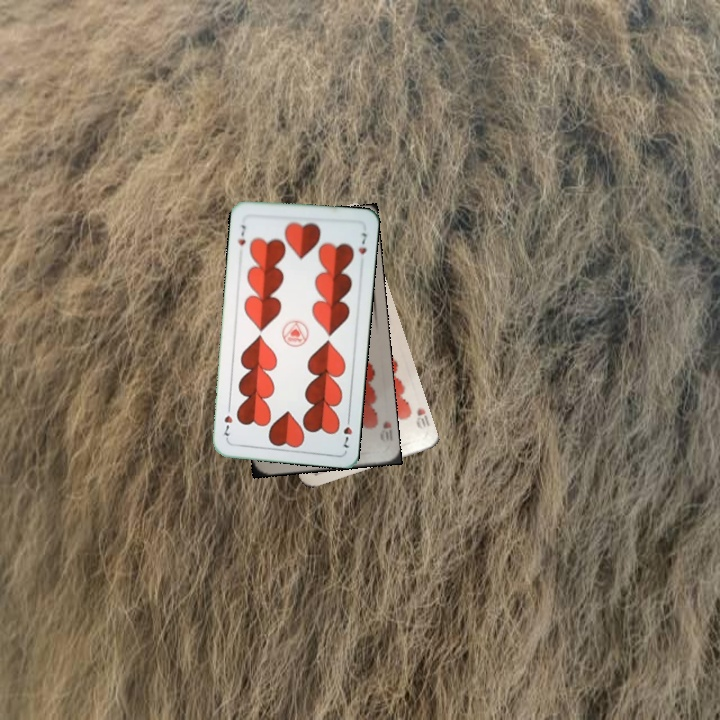H10: (412, 404, 432, 433), (376, 417, 393, 446)
H7: (339, 411, 355, 451), (234, 221, 249, 248)
